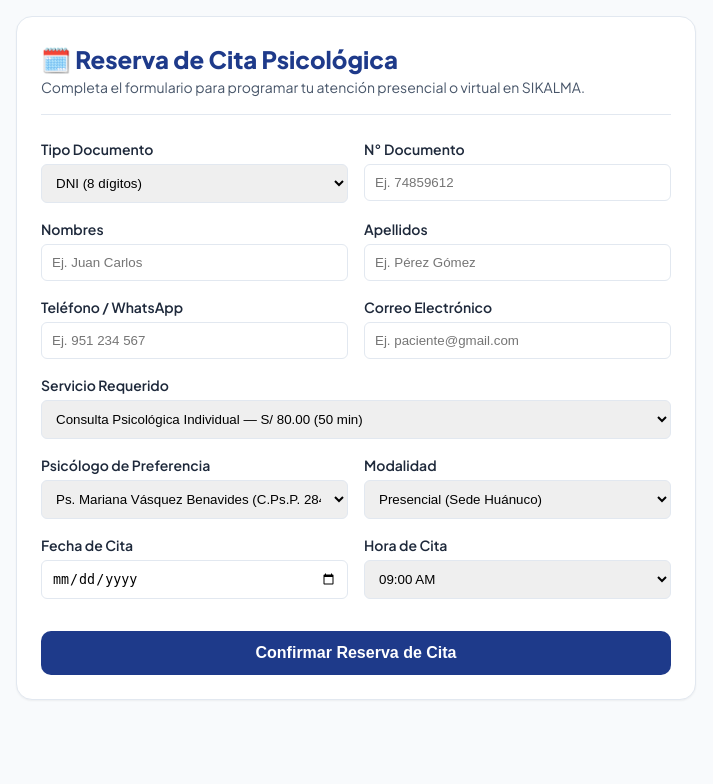
Scenario: AgendarCitaModal - Pruebas de Validación y Reserva › muestra error de validación cuando el DNI no tiene 8 dígitos
The image size is (713, 784).
Type "123" into the field with placeholder "Ej. 74859612".
click(518, 182); type("123")  # box top-left (364, 164), bottom-right (671, 201)
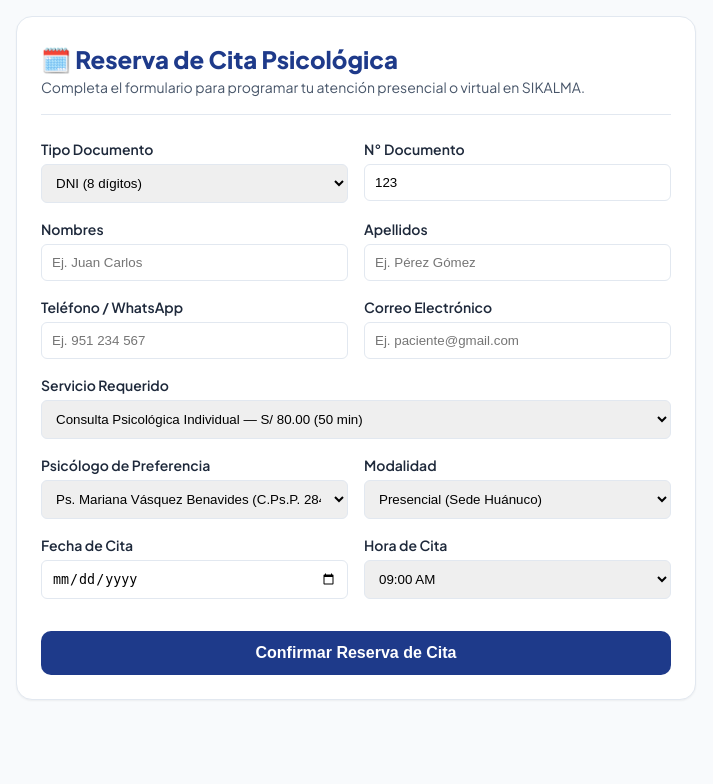
Type "Ana" into the field with placeholder "Ej. Juan Carlos".
click(194, 262); type("Ana")  # box top-left (41, 244), bottom-right (348, 281)
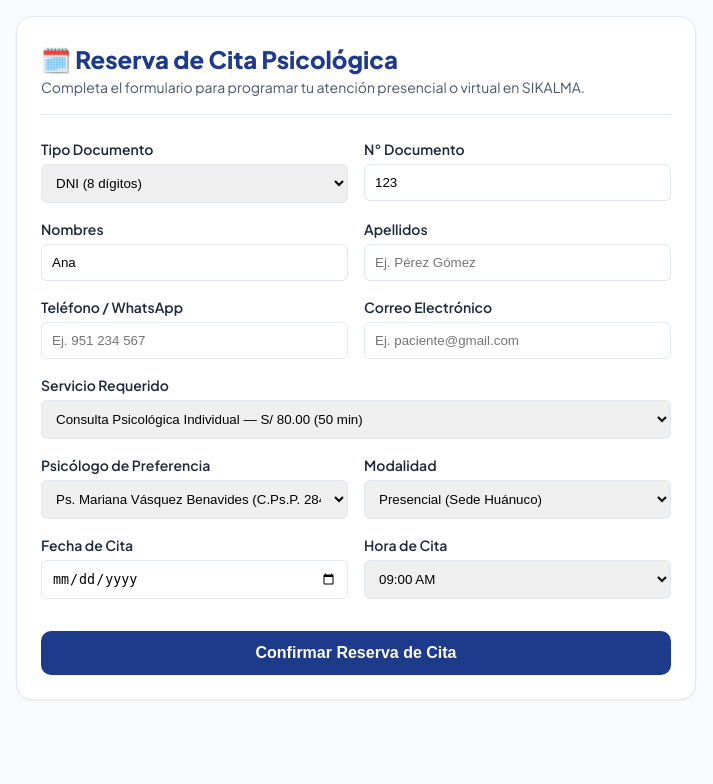
Type "Ríos" into the field with placeholder "Ej. Pérez Gómez".
click(518, 262); type("Ríos")  # box top-left (364, 244), bottom-right (671, 281)
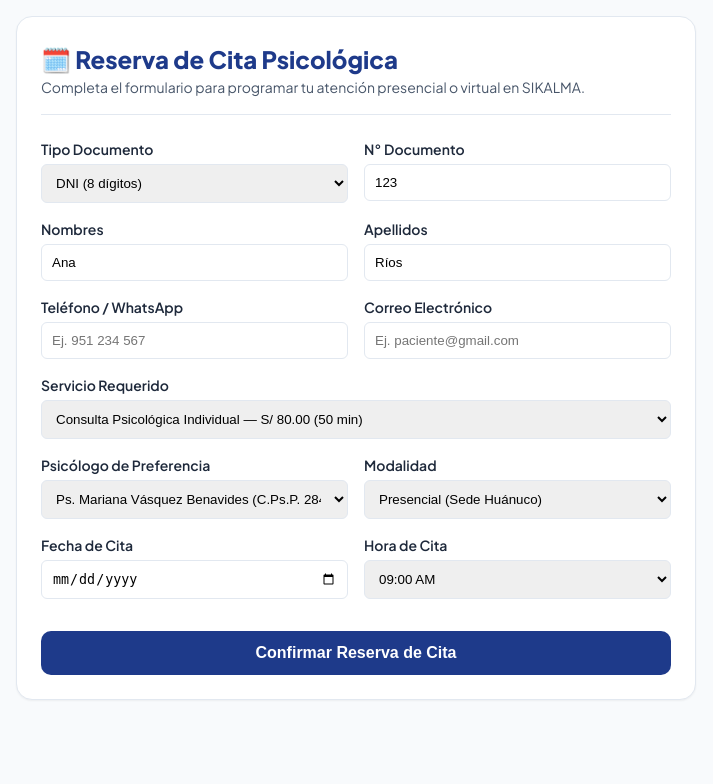
Type "987654321" into the field with placeholder "Ej. 951 234 567".
click(194, 340); type("987654321")  # box top-left (41, 322), bottom-right (348, 359)
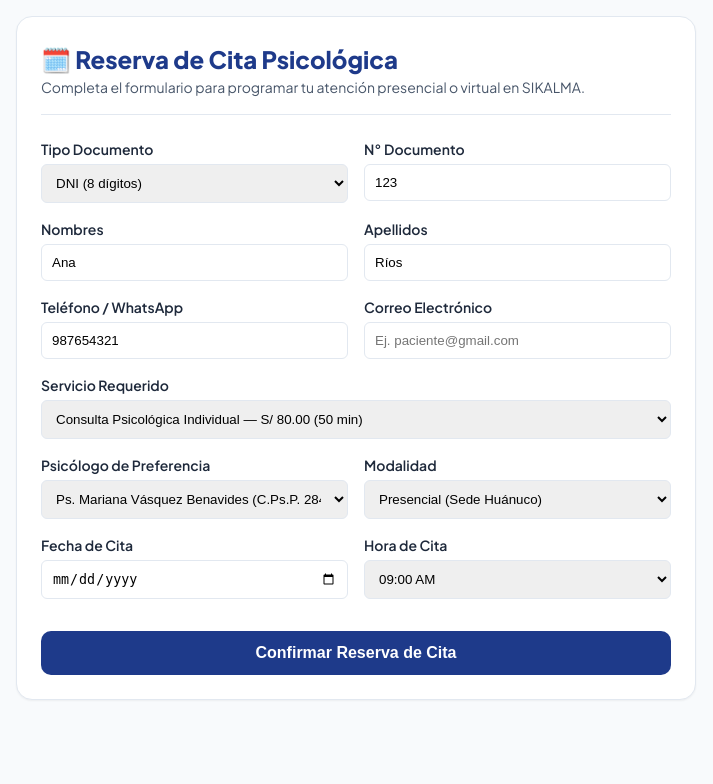
Type "2026-10-15" into the date field labelled "Fecha de Cita".
click(194, 580); type("2026-10-15")  # box top-left (41, 560), bottom-right (348, 599)
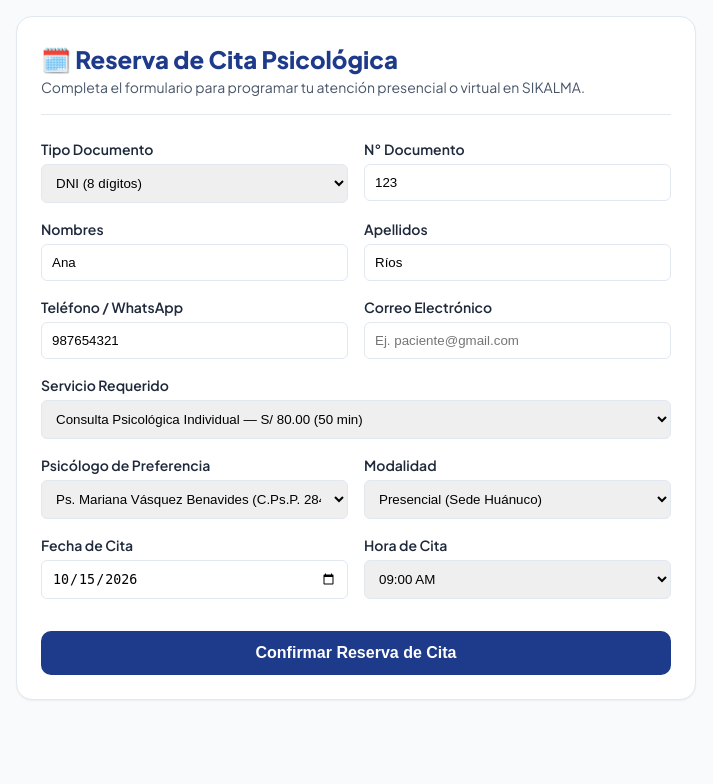
Click the button "Confirmar Reserva de Cita".
click(356, 653)  # box top-left (41, 631), bottom-right (671, 675)
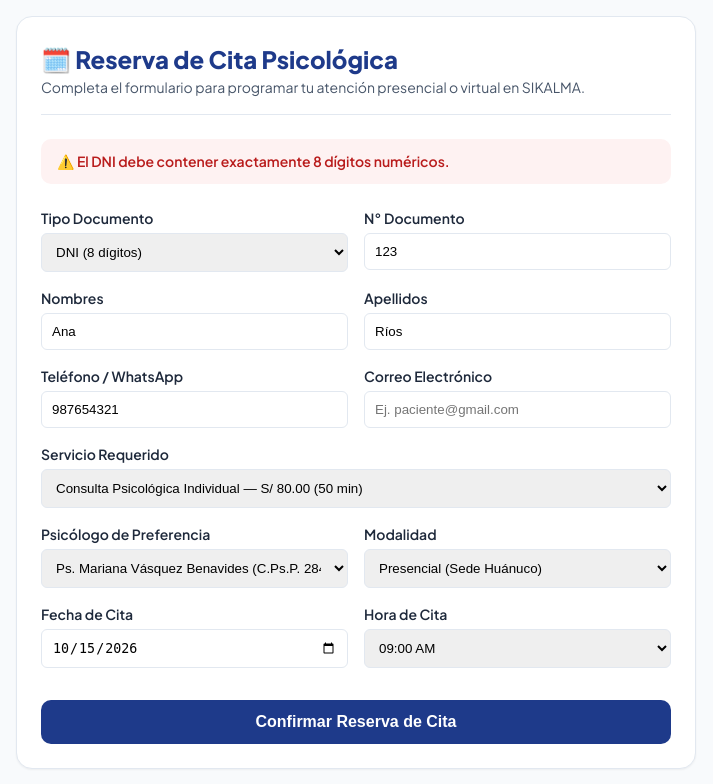
Now the text "⚠️ El DNI debe contener exactamente 8 dígitos numéricos." is shown, box top-left (41, 139), bottom-right (671, 184)
